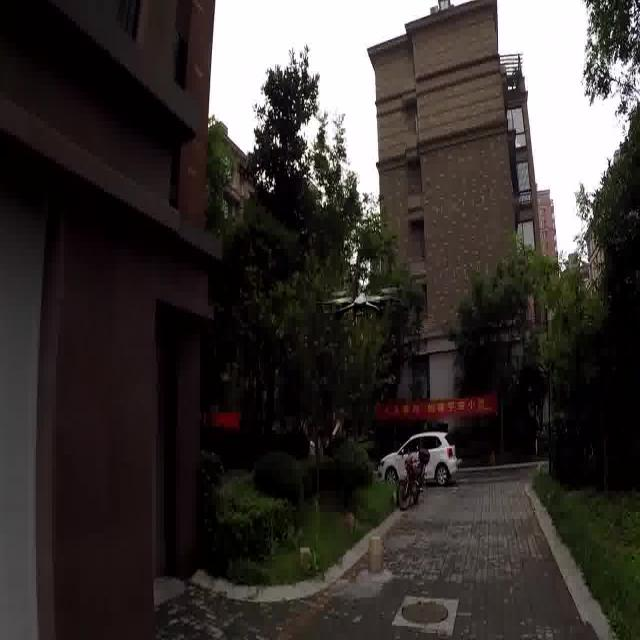drones: (312, 281, 407, 331)
